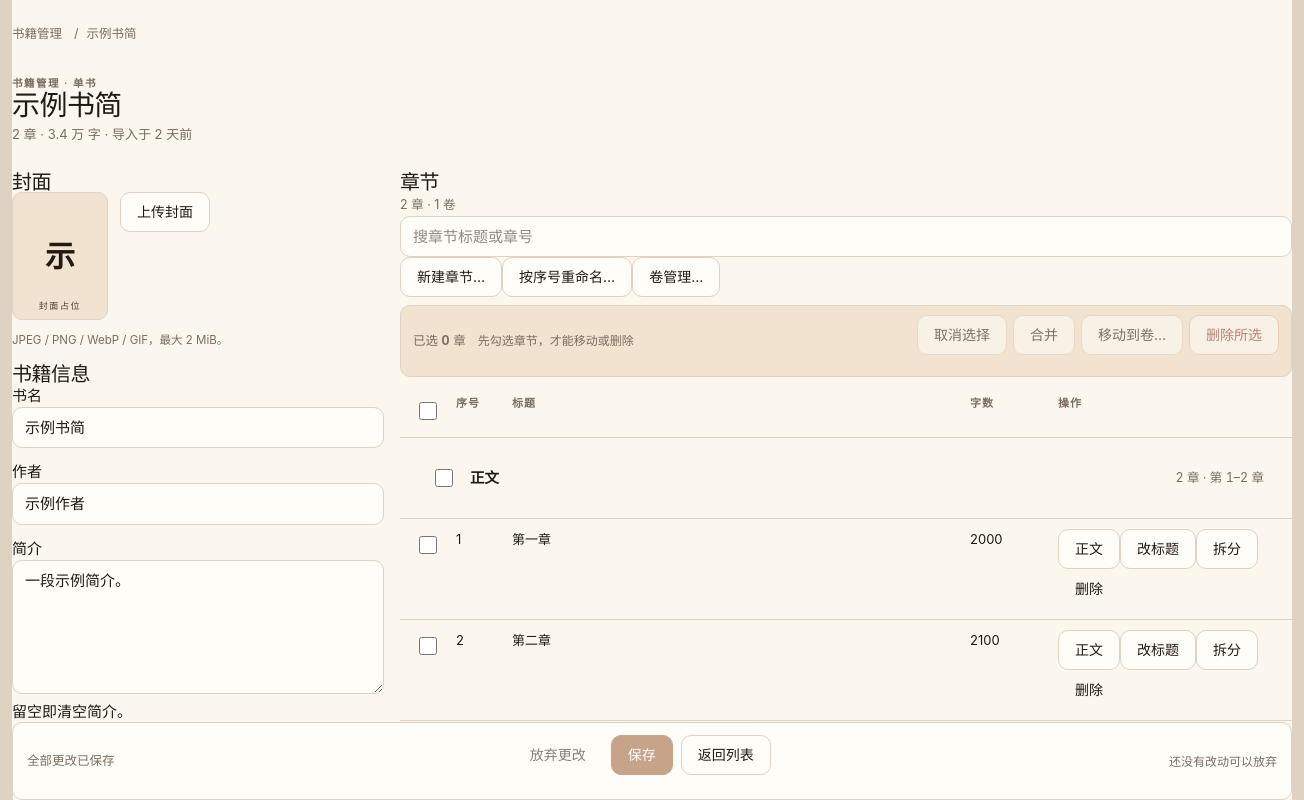
Test case: 单书管理页 › 放弃更改把草稿退回上次保存的值
Replace the text in the field with test id "admin-title" with "改了一半" at (198, 428), box [12, 407, 384, 448]
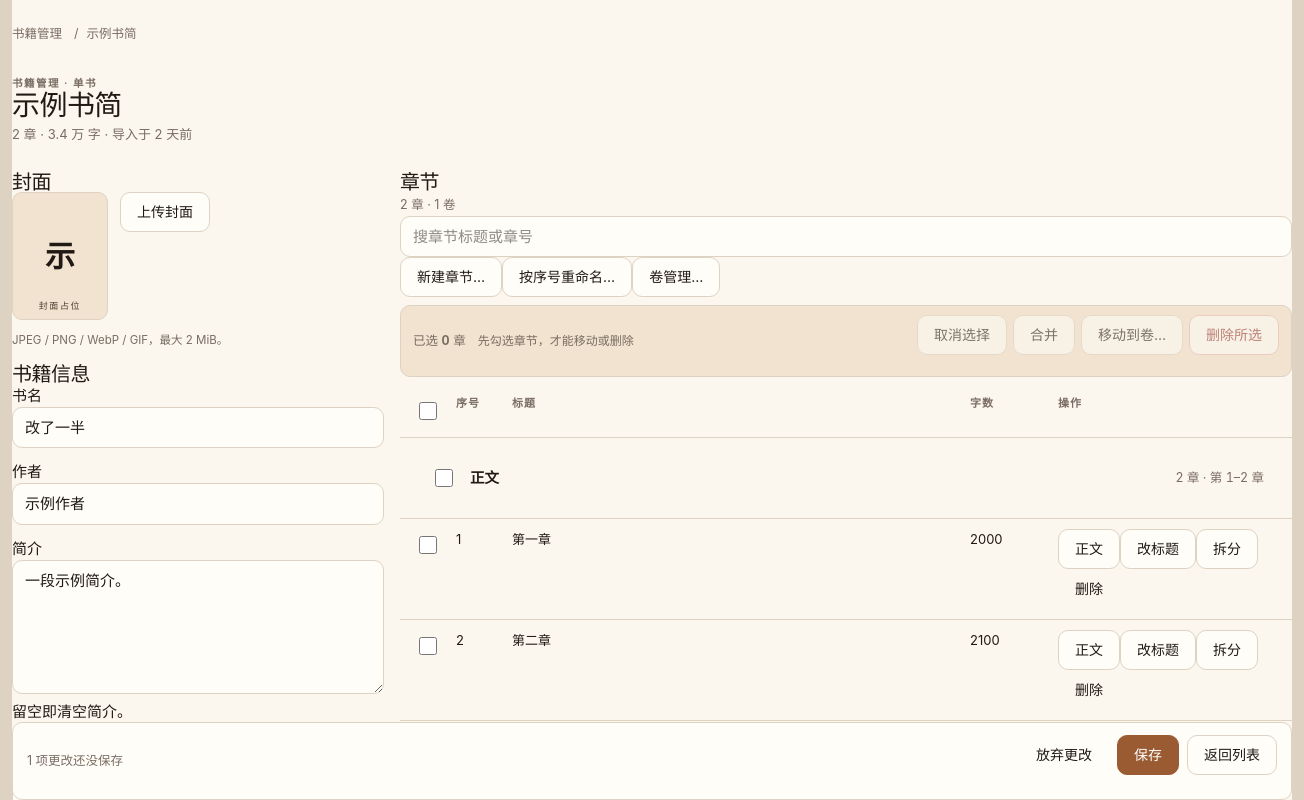
Click the button with test id "admin-discard" at (1064, 755), box [1019, 735, 1109, 775]
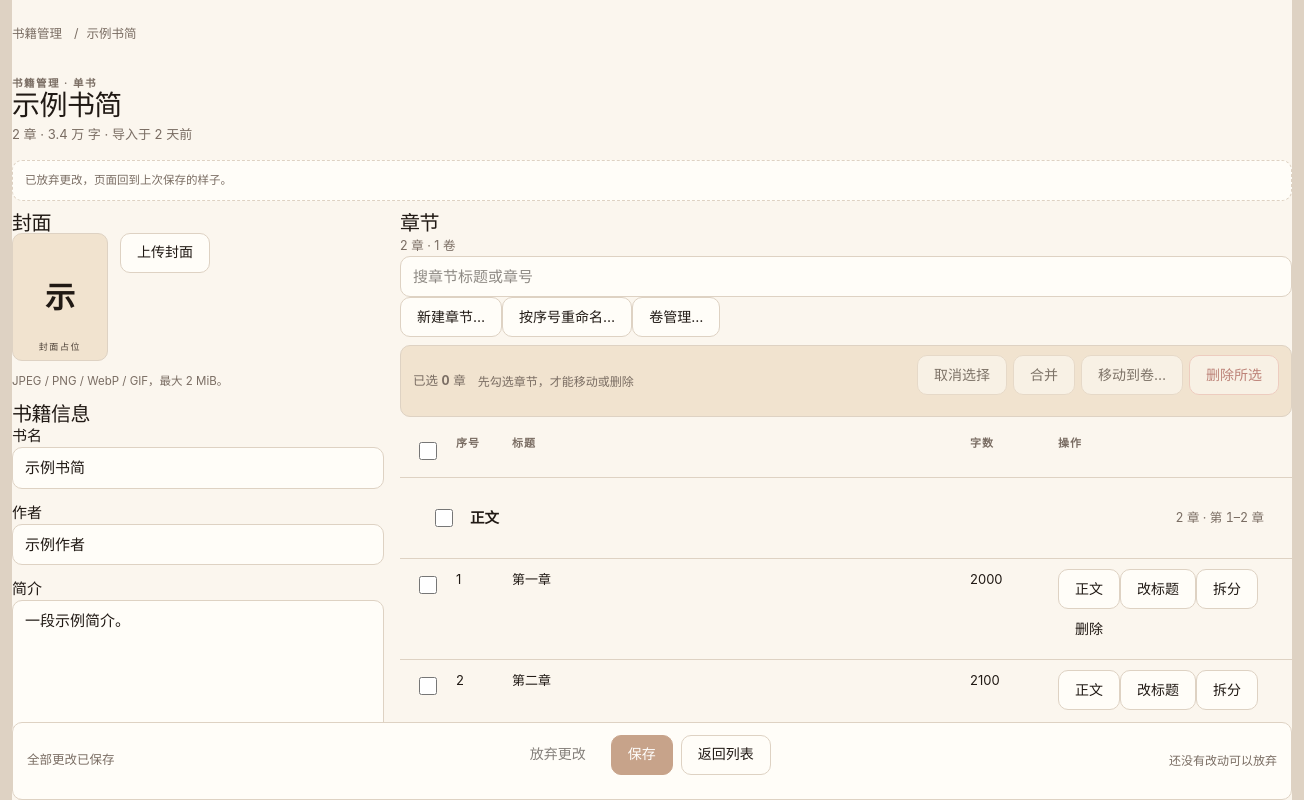
Expected: the field with test id "admin-title" holds "示例书简", [12, 447, 384, 489]
Expected: the text with test id "admin-dirty" reads "全部更改已保存", [27, 753, 114, 768]
